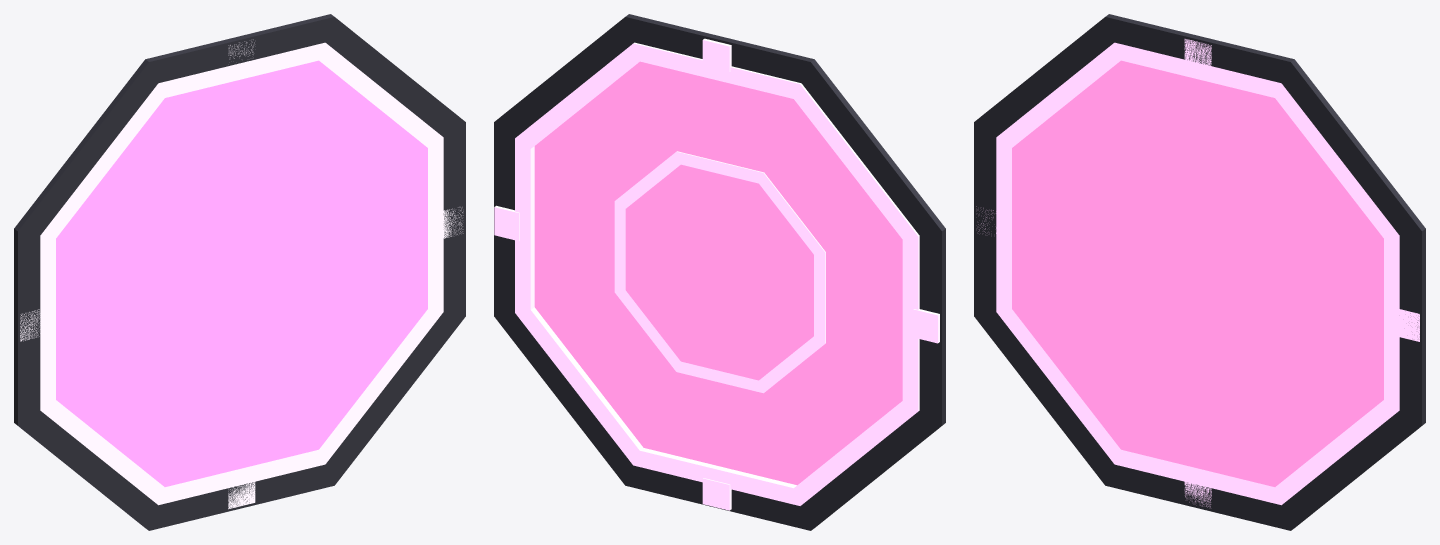
File: portal_d.glb
3 views of the same model, side by side, from view 1: azimuth 30°, elevation 25°; view 2: azimuth 150°, elevation 25°; view 3: azimuth 330°, elevation 25° (orthographic).
Parts seen in each view (by area): view 1: portal_d; view 2: portal_d; view 3: portal_d.
Part boxes in pixels (x1=…): portal_d: x1=14, y1=14, x2=465, y2=530; portal_d: x1=494, y1=14, x2=945, y2=530; portal_d: x1=974, y1=14, x2=1425, y2=530.
Size of the model in its own units: 2 by 2 by 0.045.
